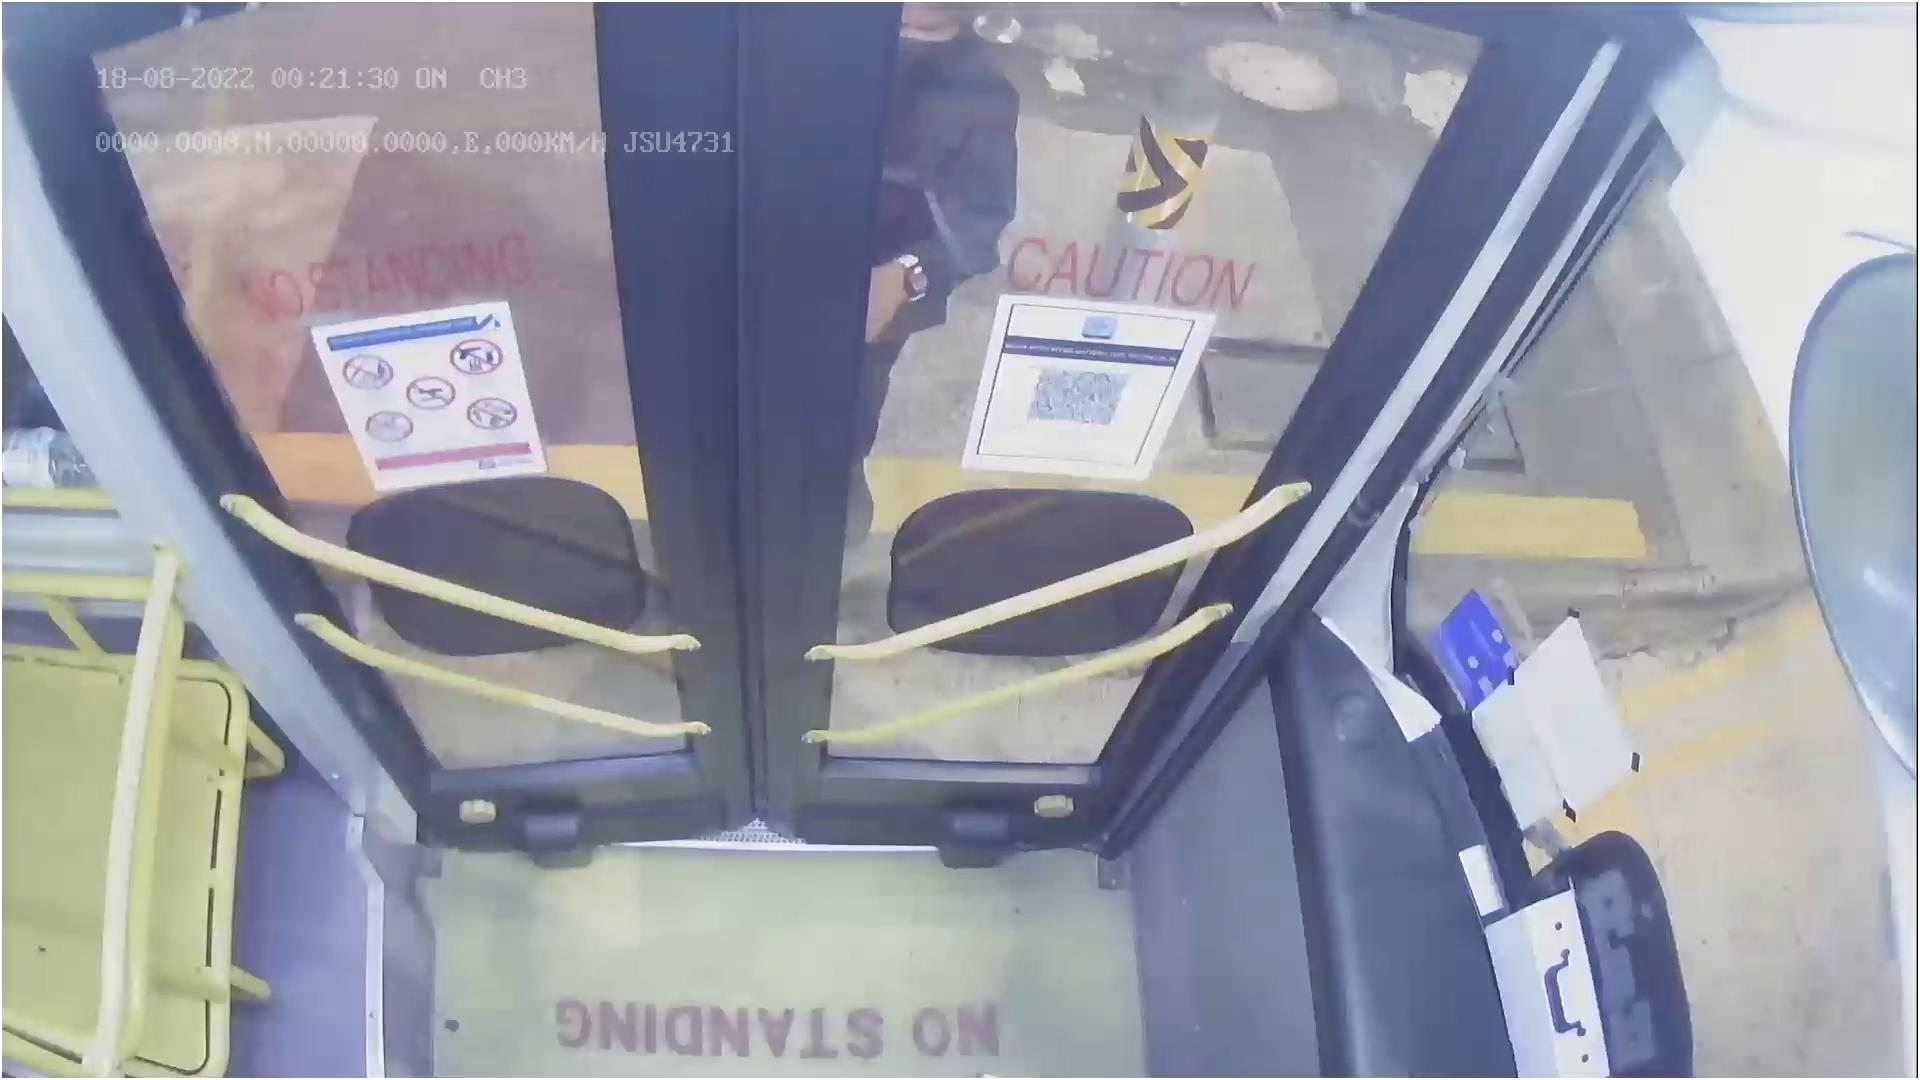close: (125, 0, 1457, 171)
